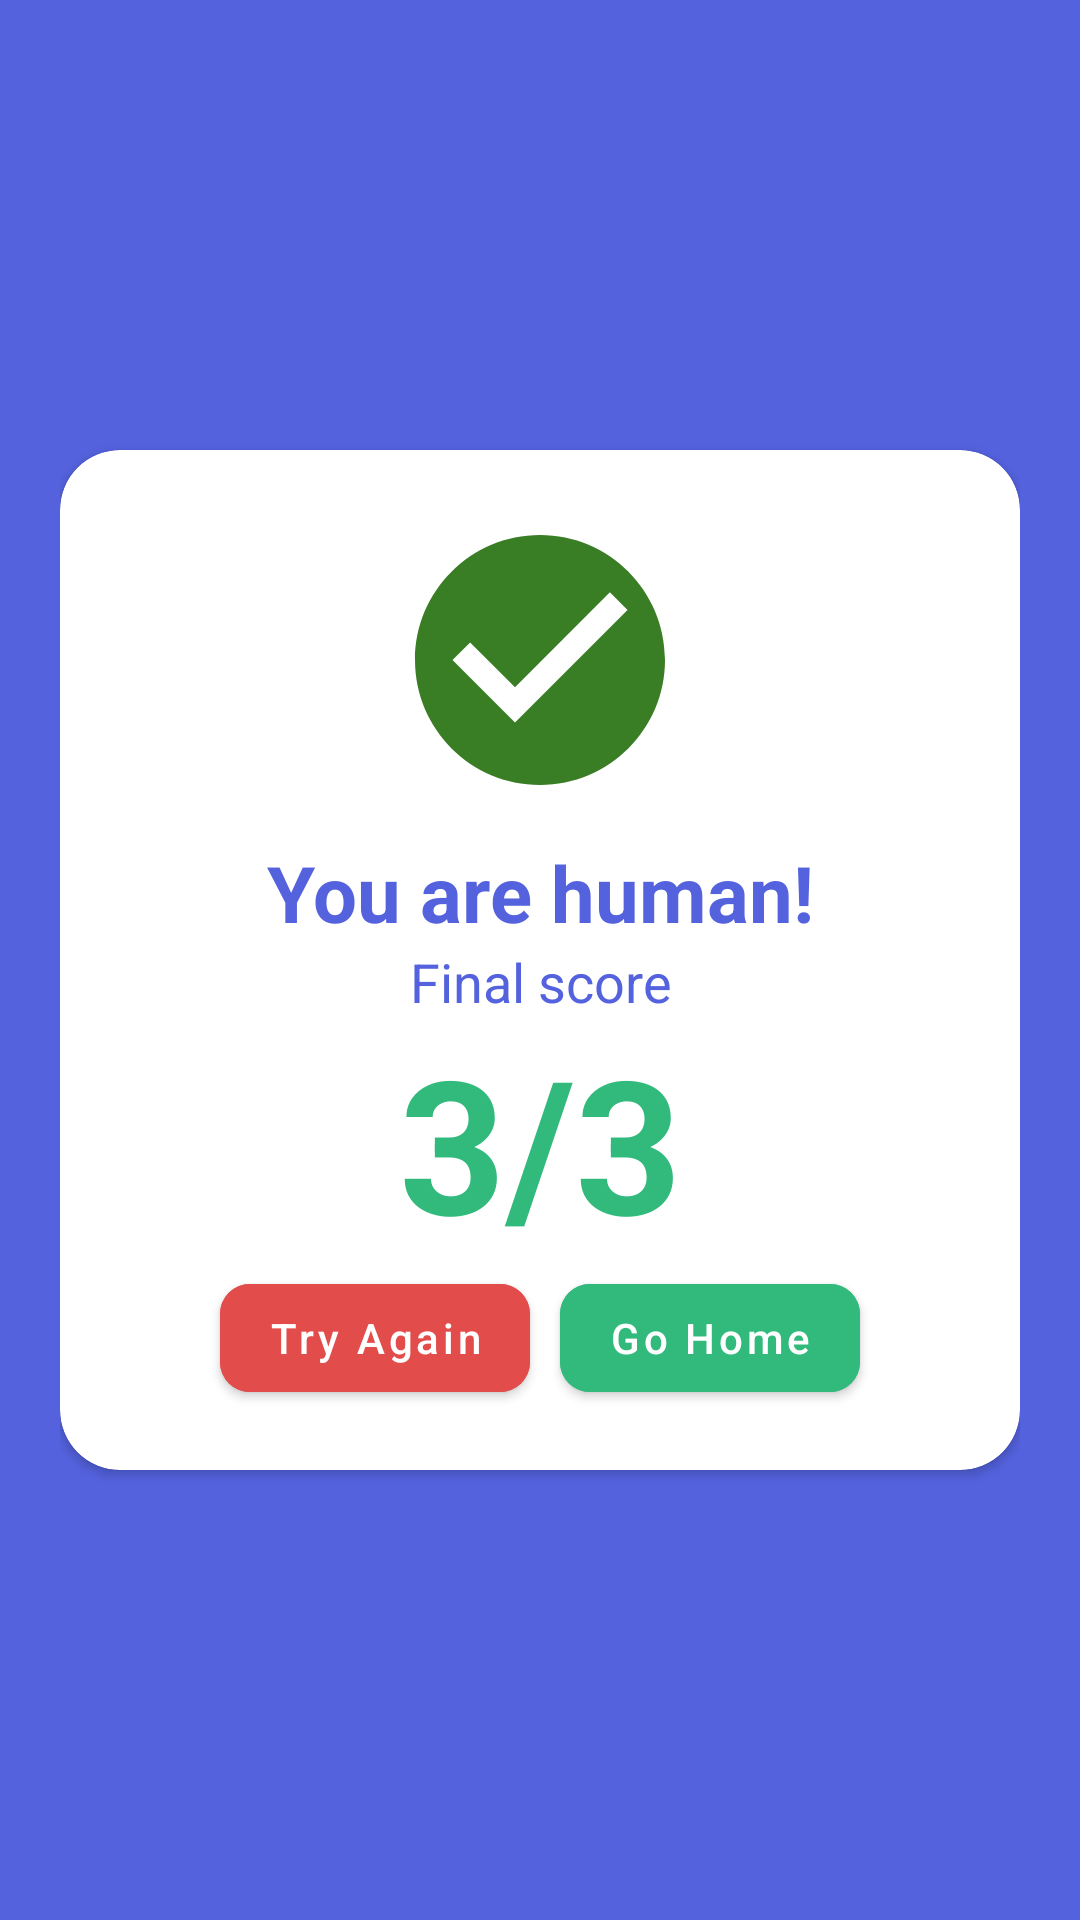

Icons on this 1080 x 1920 Android screen, each with its box as bbox=[x1, y1, x2, y2]:
check circle: bbox=[415, 535, 665, 785]
